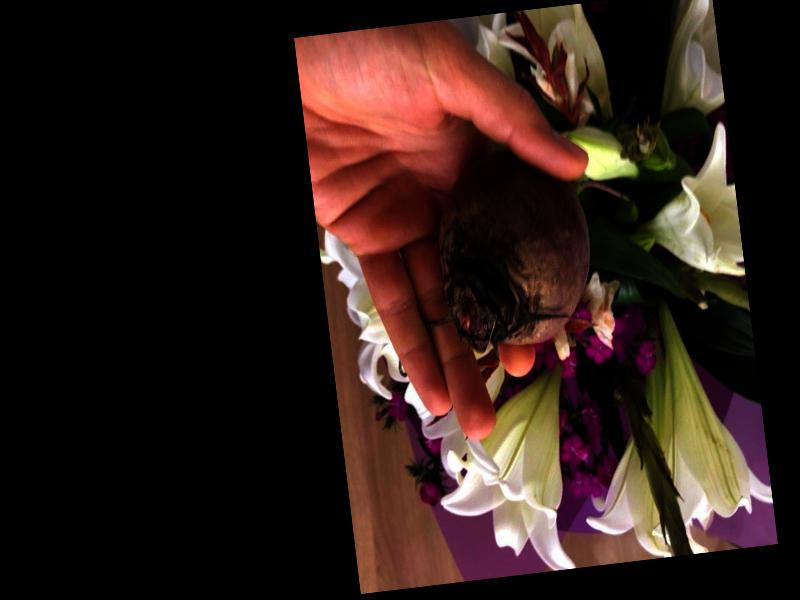Beet: (427, 137, 647, 354)
